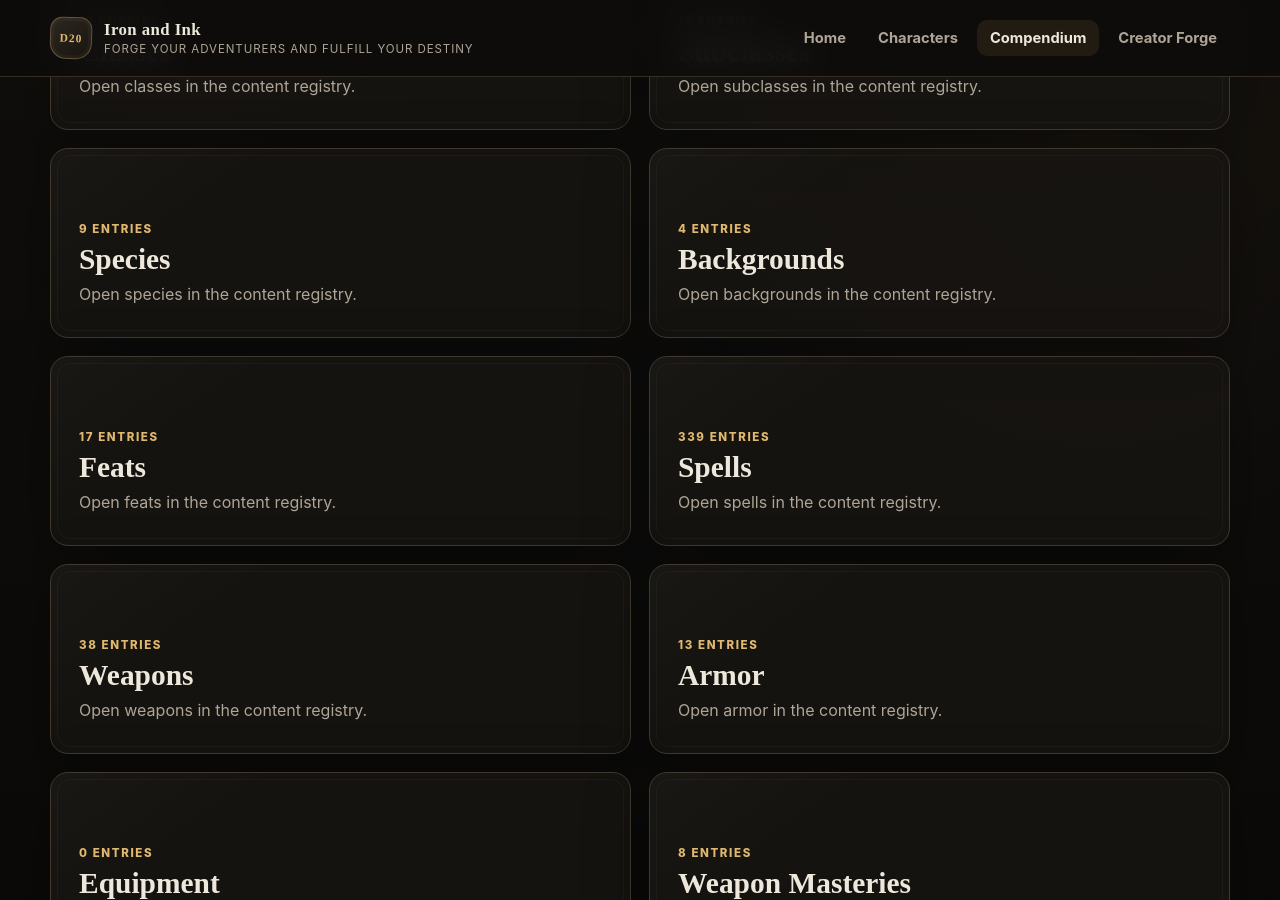
Test: Milestone 10 Spell Compendium integration › keeps the six M10 anchors exposed through the expanded M12A Compendium
The image size is (1280, 900).
(page scrolled)
What coordinates should you click on to do the following:
click the link "339 entries Spells Open spells in the content registry."
I would click on:
 (738, 437)
Its box is 649,356 -> 1230,546.
(page scrolled)
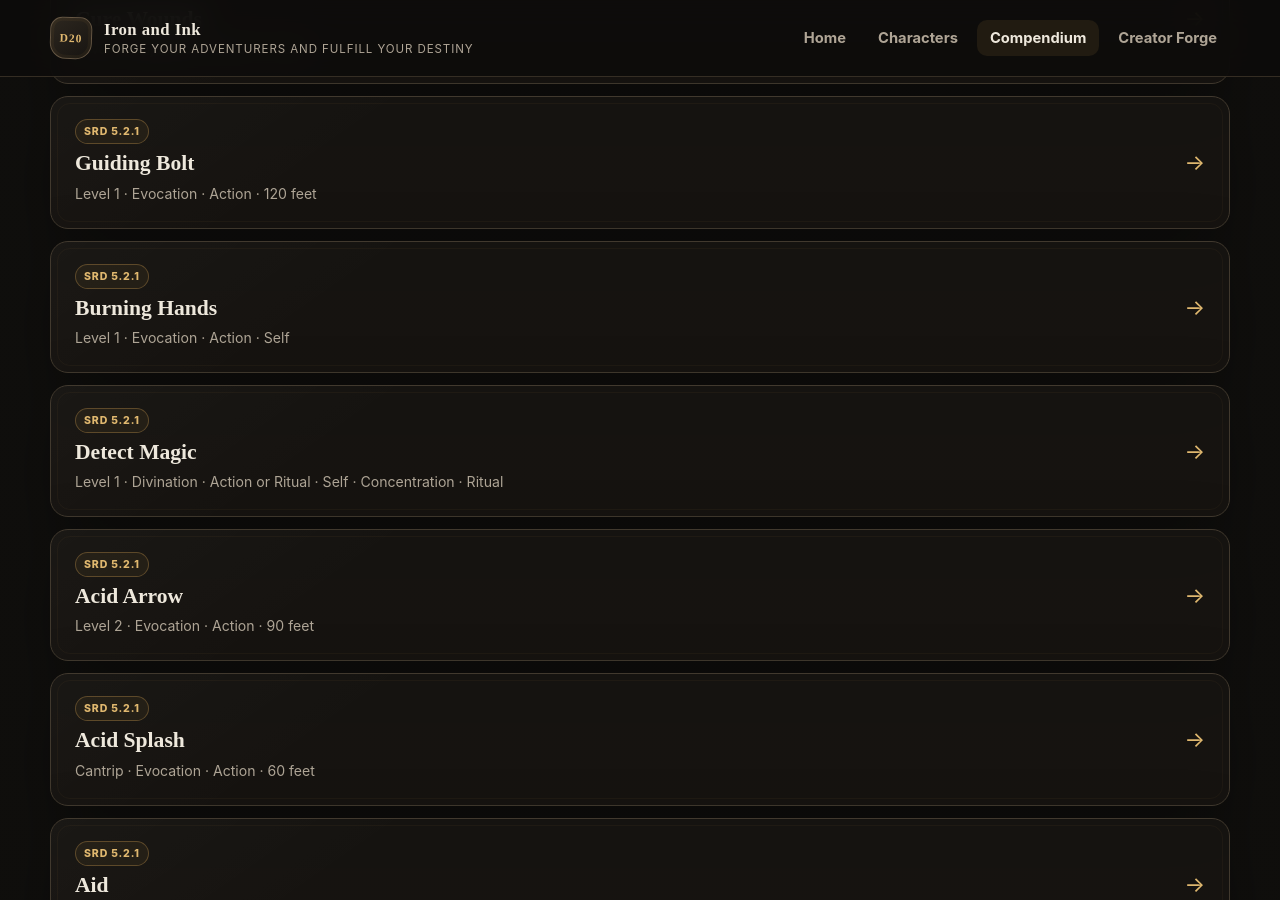
What coordinates should you click on to do the following:
click the link "Detect Magic"
I would click on:
 (640, 451)
Its box is 50,385 -> 1230,517.
(page scrolled)
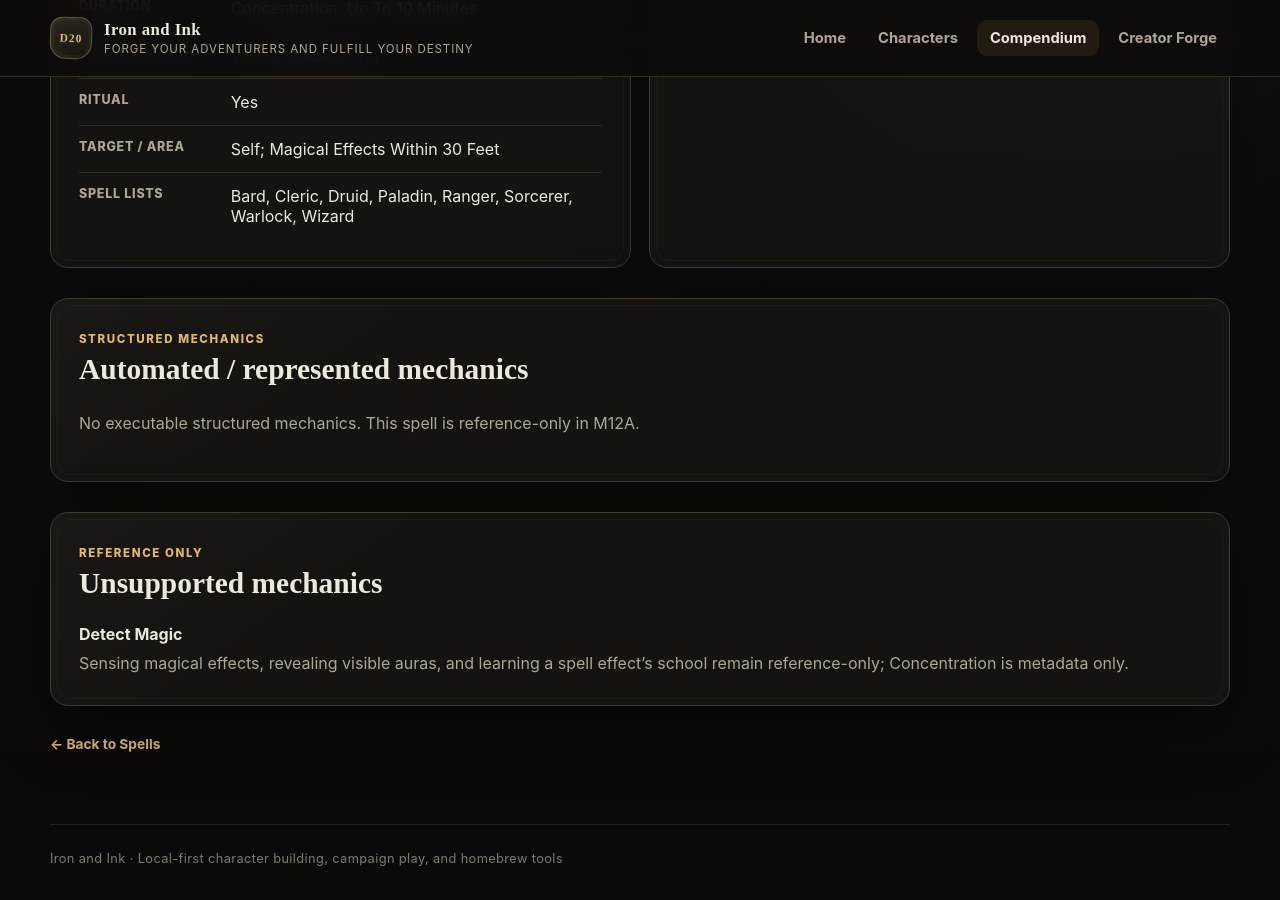
Expected: the text "Yes · metadata only" is shown, 231,45 -> 382,65
Result: the text "Concentration is metadata only" is shown at 79,653 -> 1129,673
